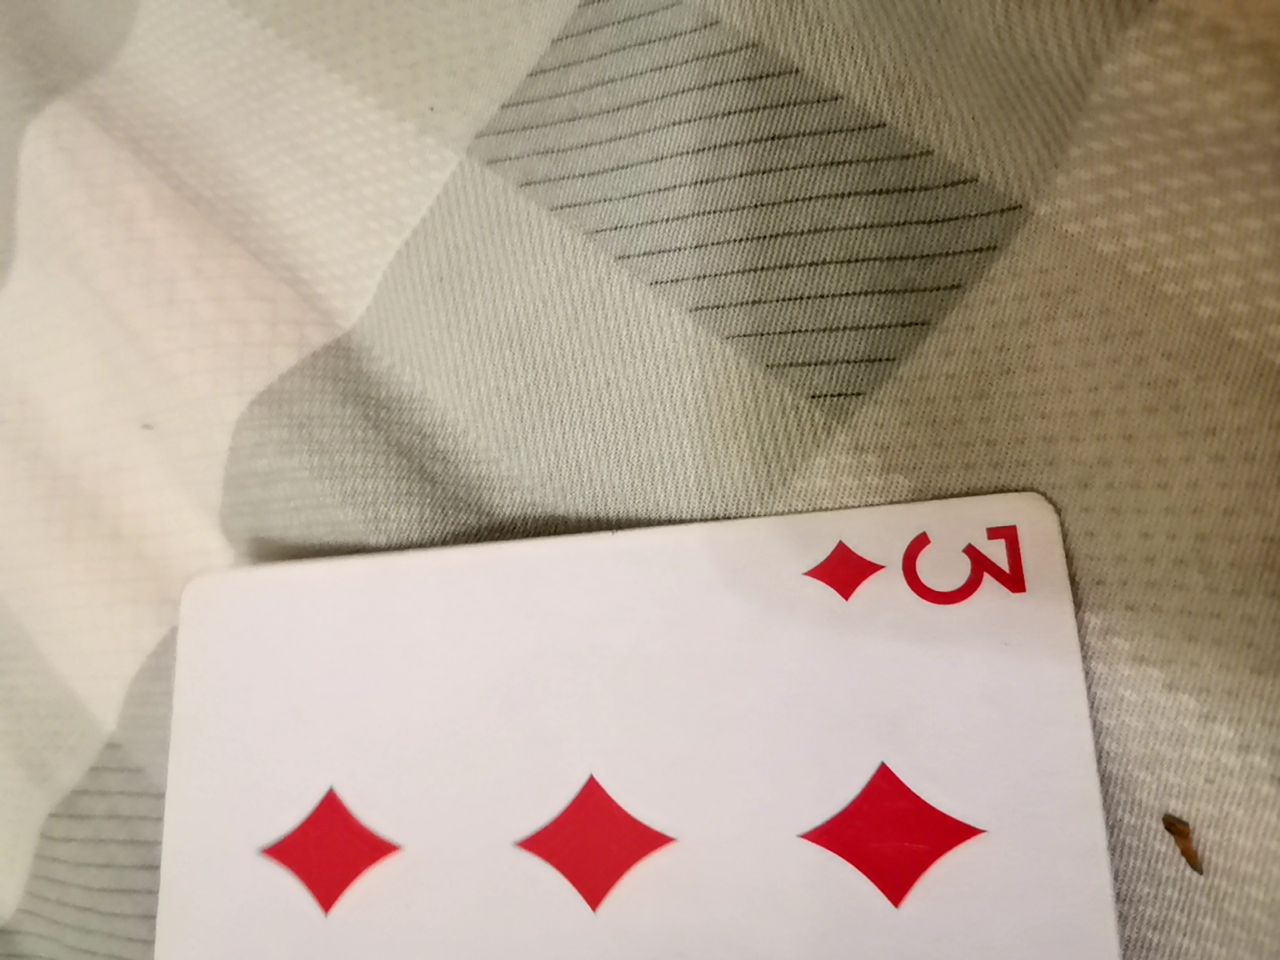fk 3: (156, 507, 1184, 949)
